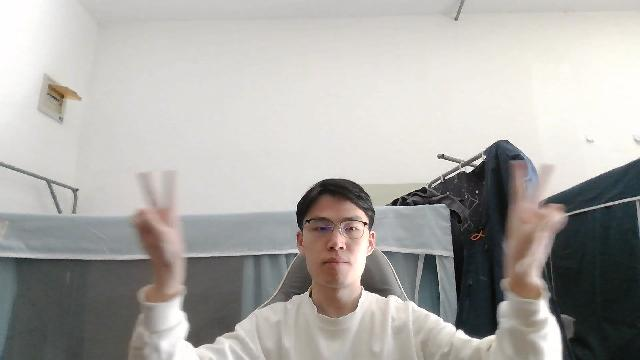yes: (500, 159, 567, 286), (129, 165, 189, 291)
